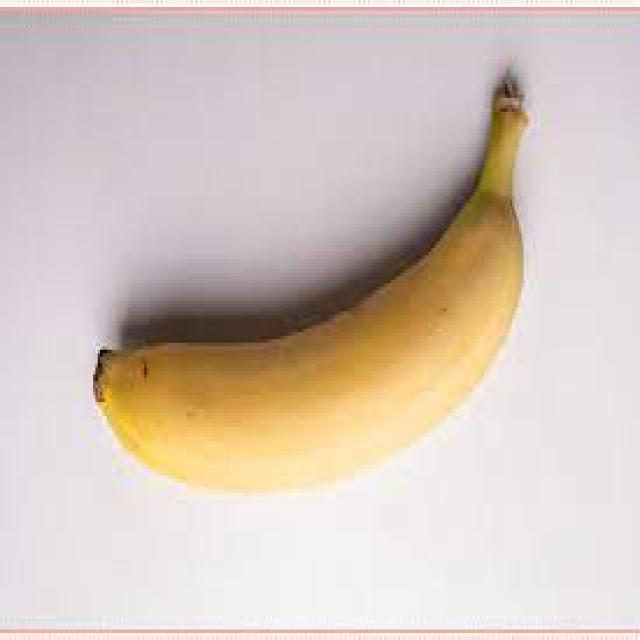banana: (90, 63, 530, 493)
